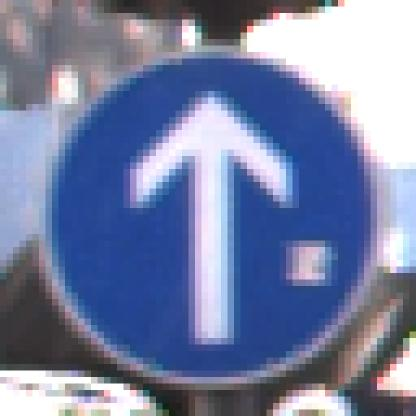AheadOnly: (34, 34, 385, 385)
